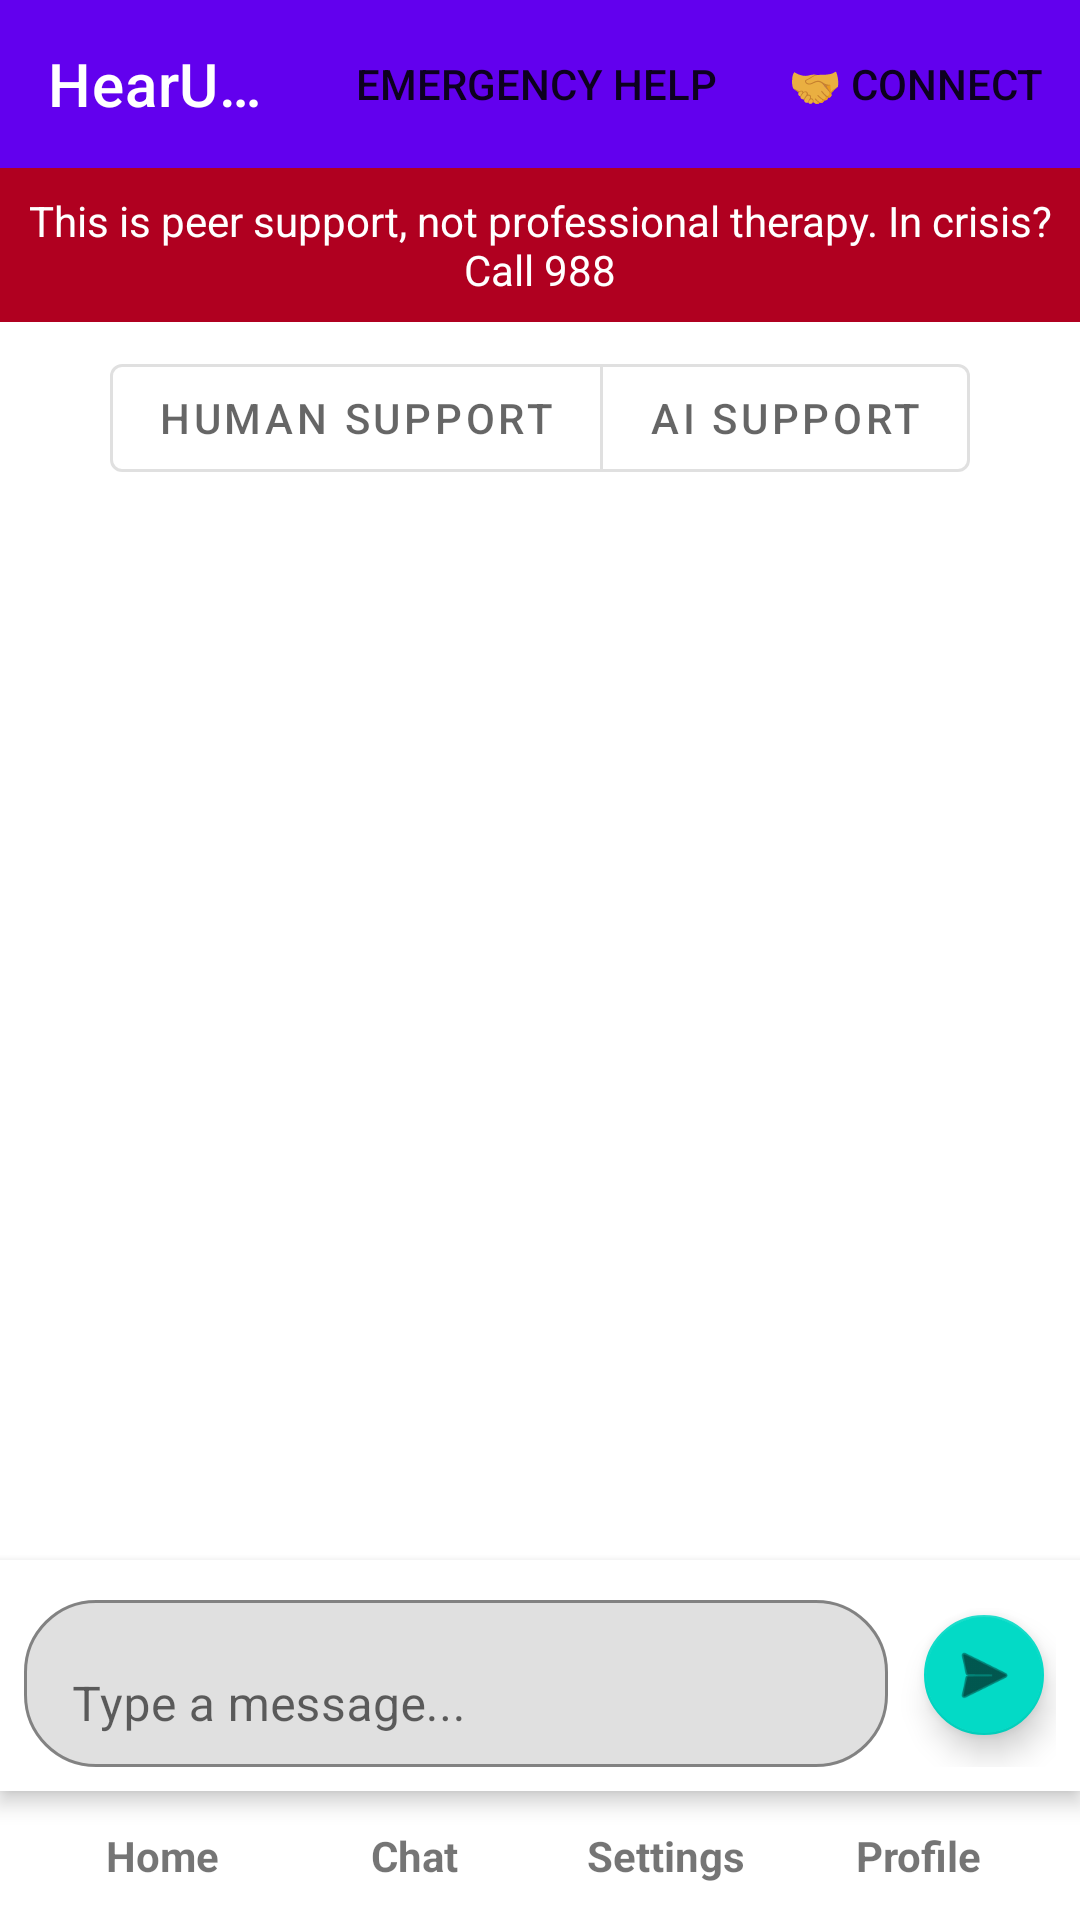

Where to tap for icons on this 1080*1920 app screen, as point (x, y):
Send: point (985, 1681)
